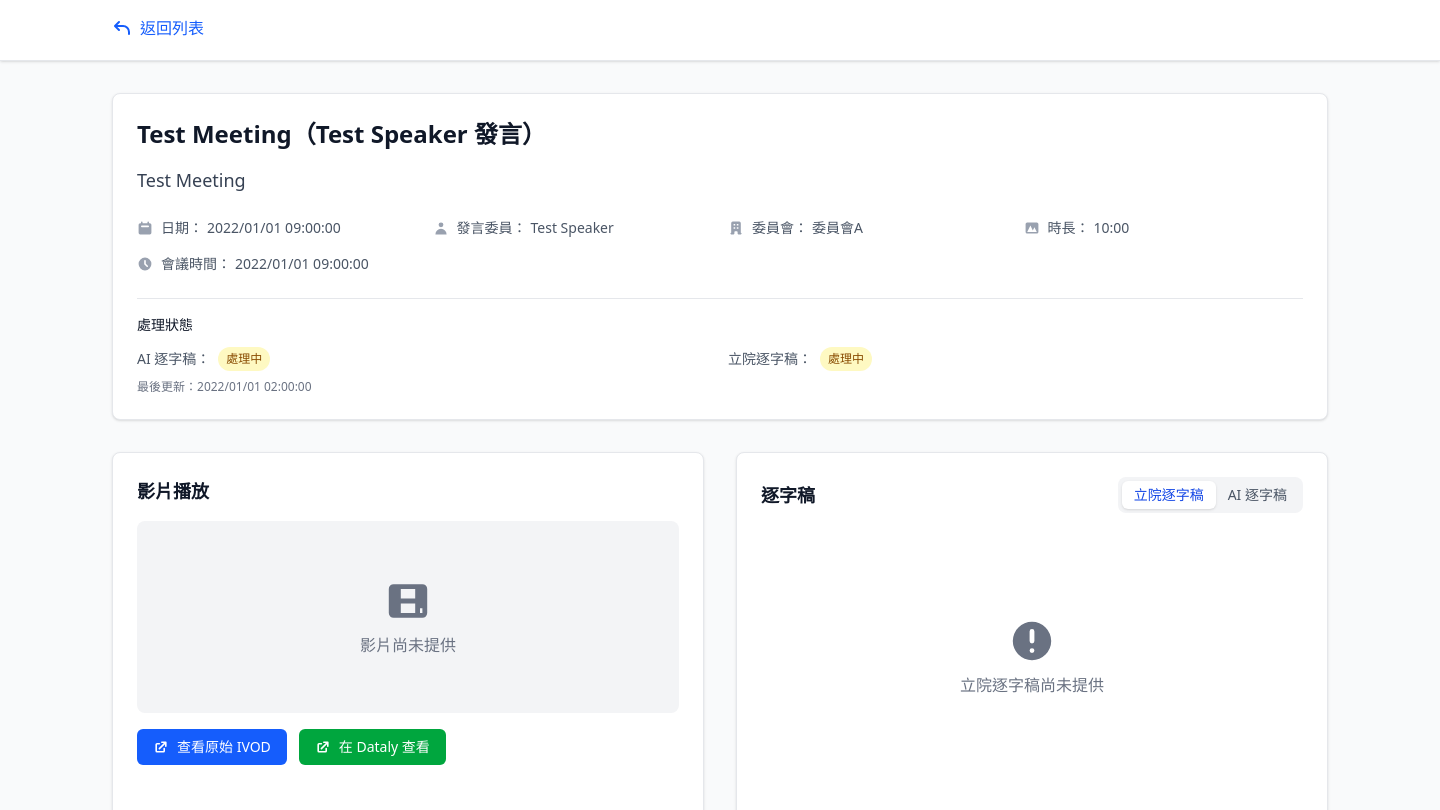
Test: IVOD Detail Page › shows placeholder when transcripts are not available
Expected: the text "立院逐字稿尚未提供" is shown, 960,673 -> 1104,697
Click the button "AI 逐字稿": (1257, 495) 1216,481 -> 1299,509
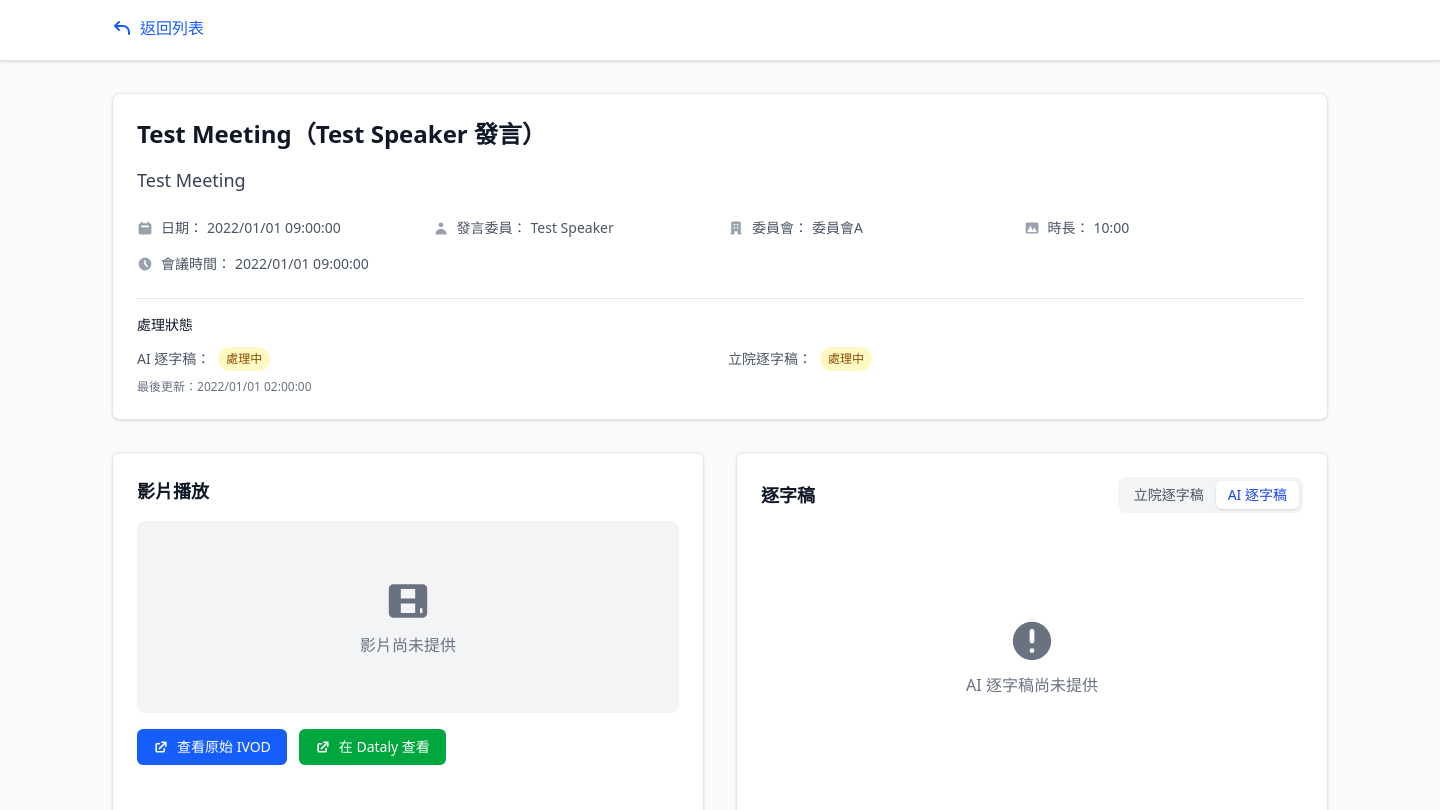
Expected: the text "AI 逐字稿尚未提供" is shown, 966,673 -> 1098,697
